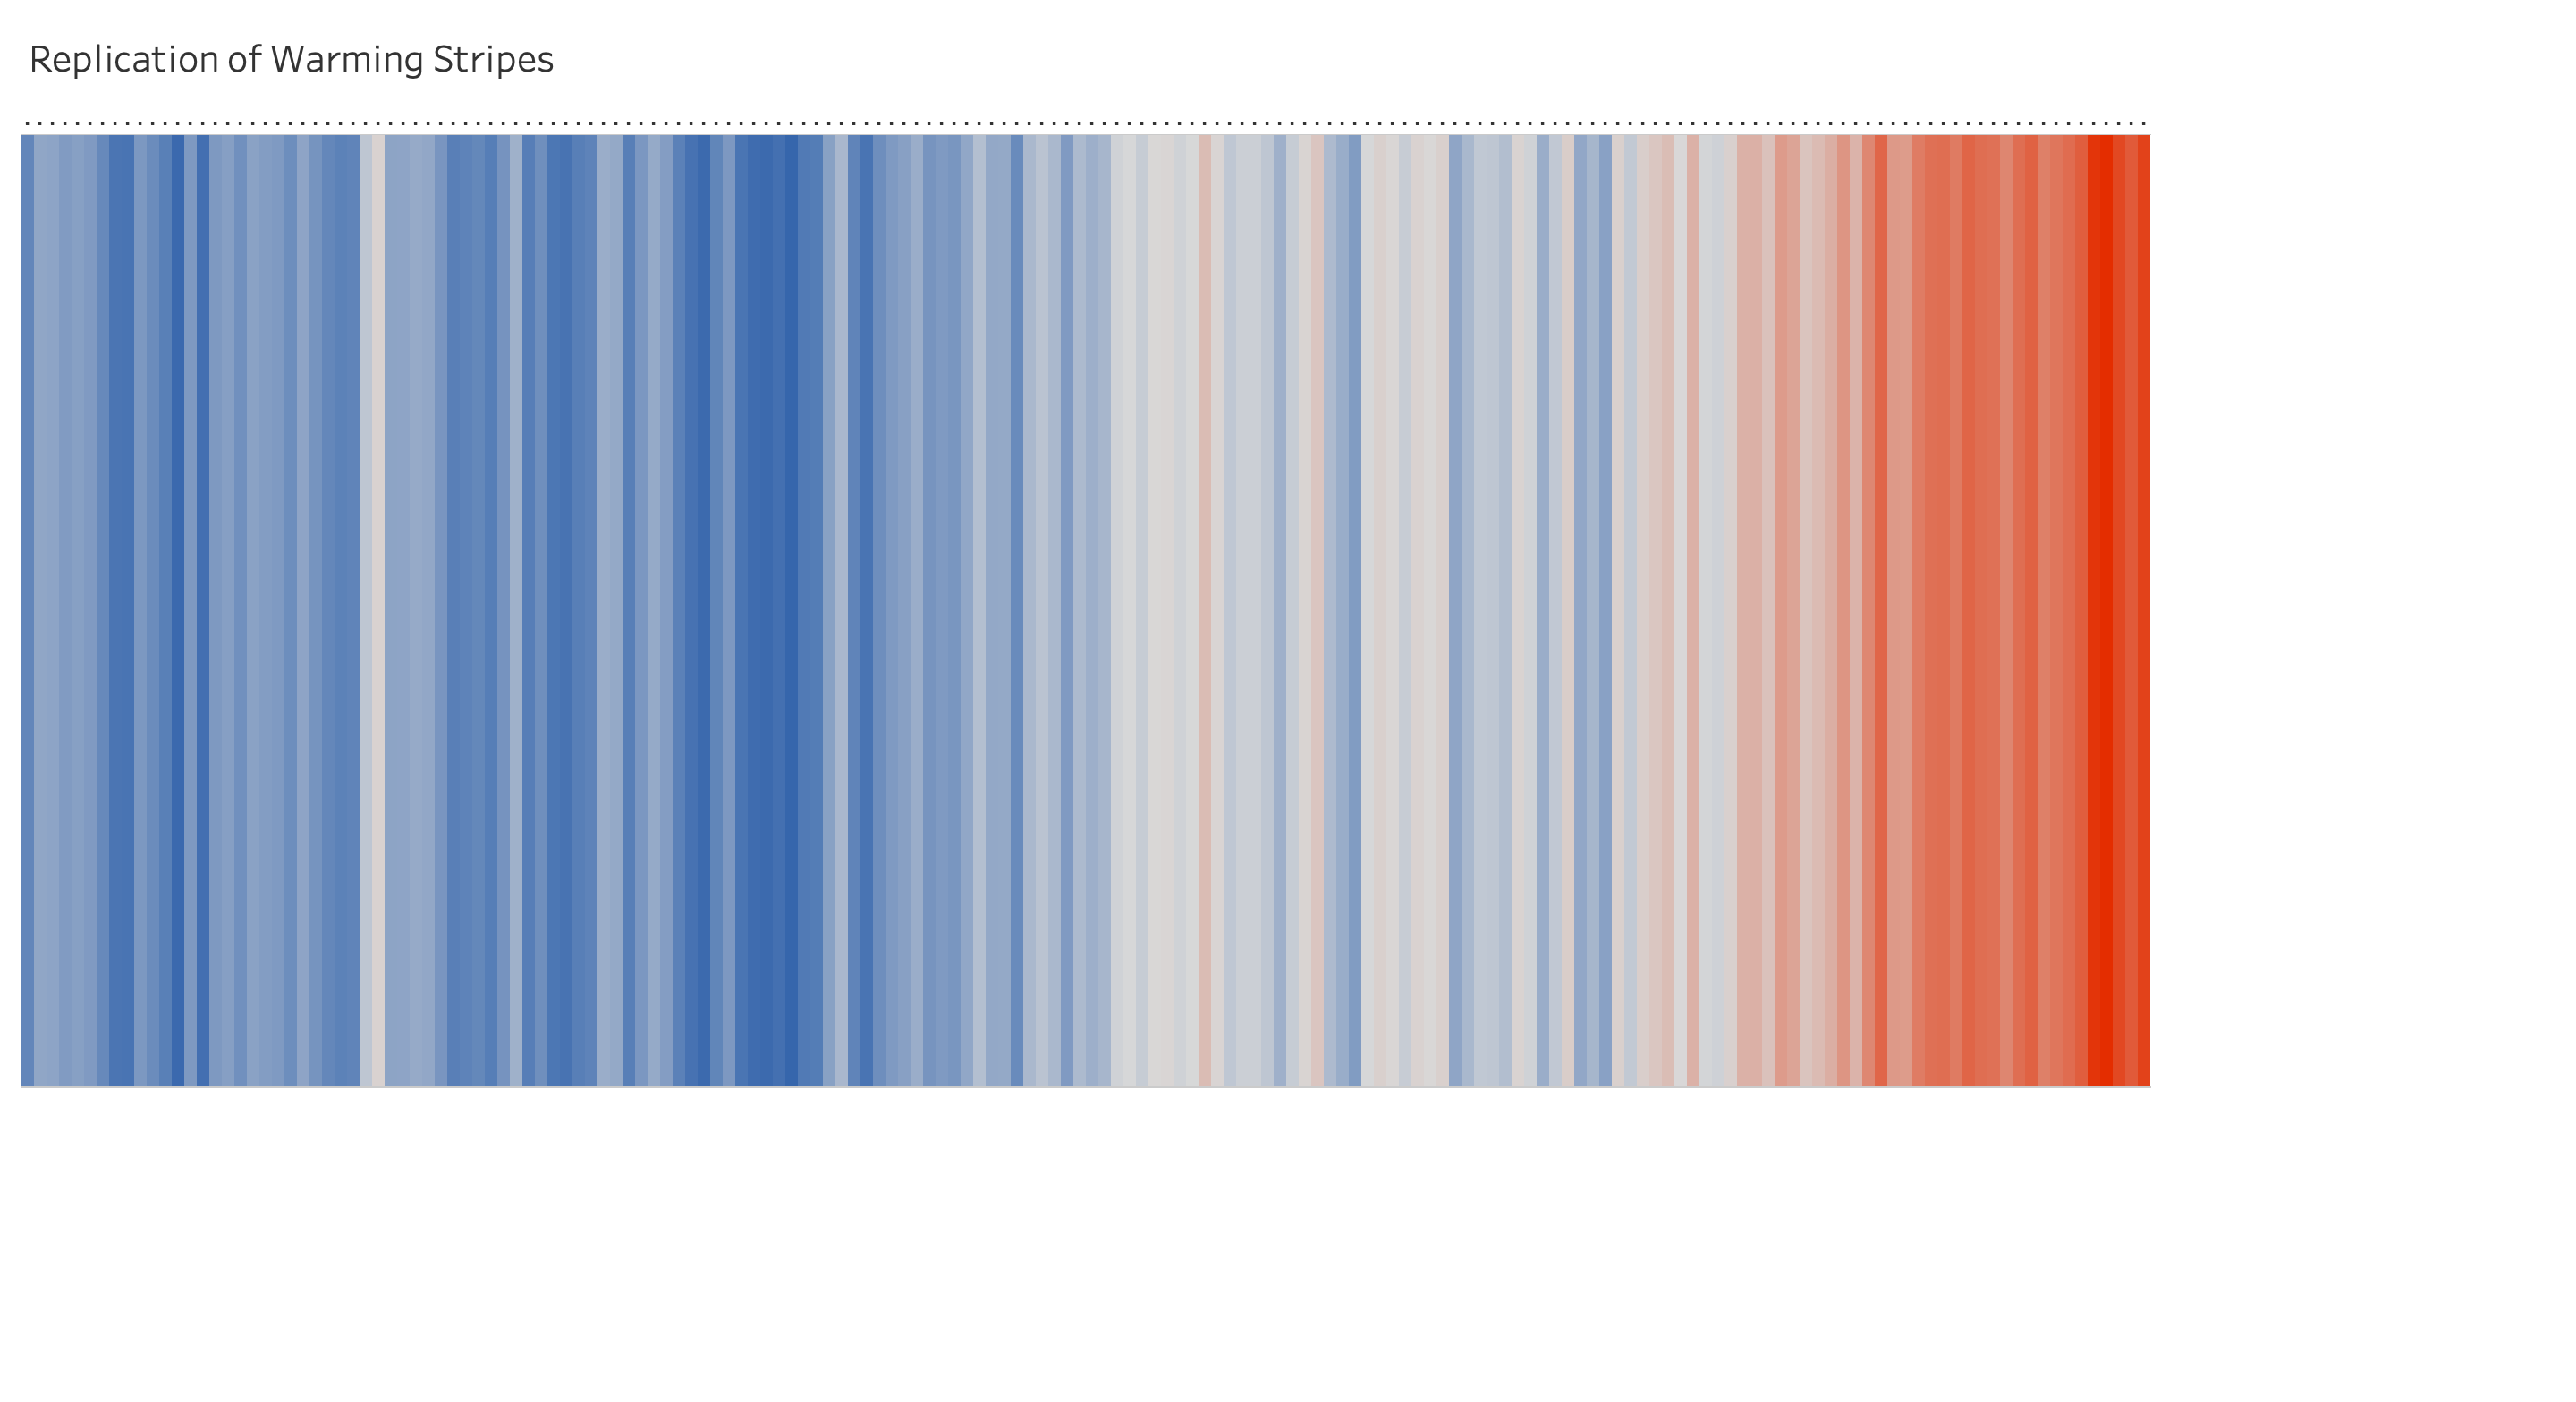

This screenshot's page, from the dashboard's own definition file:
{"tool":"tableau","page":{"name":"Warming Stripes-Replication","canvas":[1000,1000],"units":"permille","ordinal":0},"visuals":[{"type":"worksheet","title":"Warming Stripes","mark":"Square","cols":["F1"],"box":[5.6,10.2,988.9,979.6]}]}

Visuals, with their boxes on the dashboard's canvas, which has no fixed pixel size, in thousandths of its width and height (x1, y1, x2, y2). These are canvas units, not pixel positions in the 2576x1402 screenshot, which may show the page scaled, cropped or inside an application window:
"Warming Stripes" worksheet (Square marks): (6,10,994,990)
